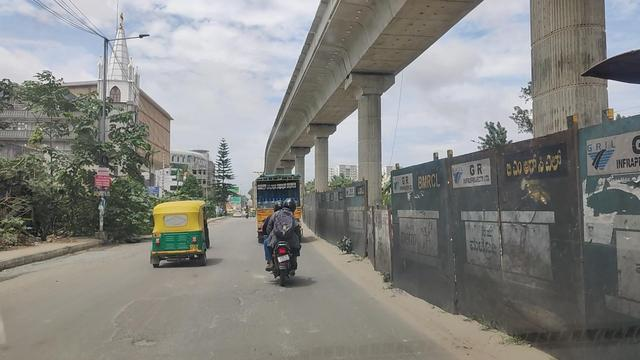HMV: (251, 174, 307, 242)
LMV: (263, 196, 303, 292), (150, 204, 207, 268)
RoadDamages: (106, 294, 146, 331), (132, 336, 162, 353), (233, 292, 250, 312), (254, 286, 263, 298)
